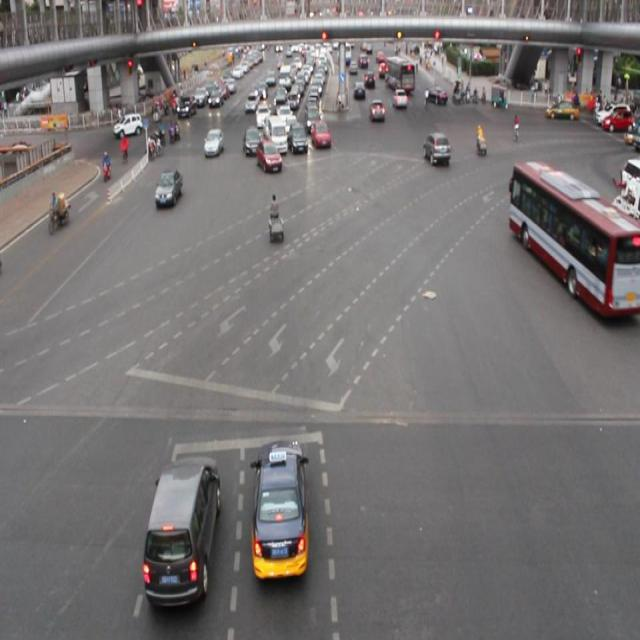car: (251, 438, 308, 580), (154, 169, 182, 207), (422, 133, 449, 168), (256, 139, 281, 174), (288, 121, 308, 156), (203, 128, 224, 158), (311, 118, 330, 150), (242, 126, 260, 156)
truck: (144, 454, 218, 606), (264, 115, 287, 154)
van: (509, 163, 640, 319)
